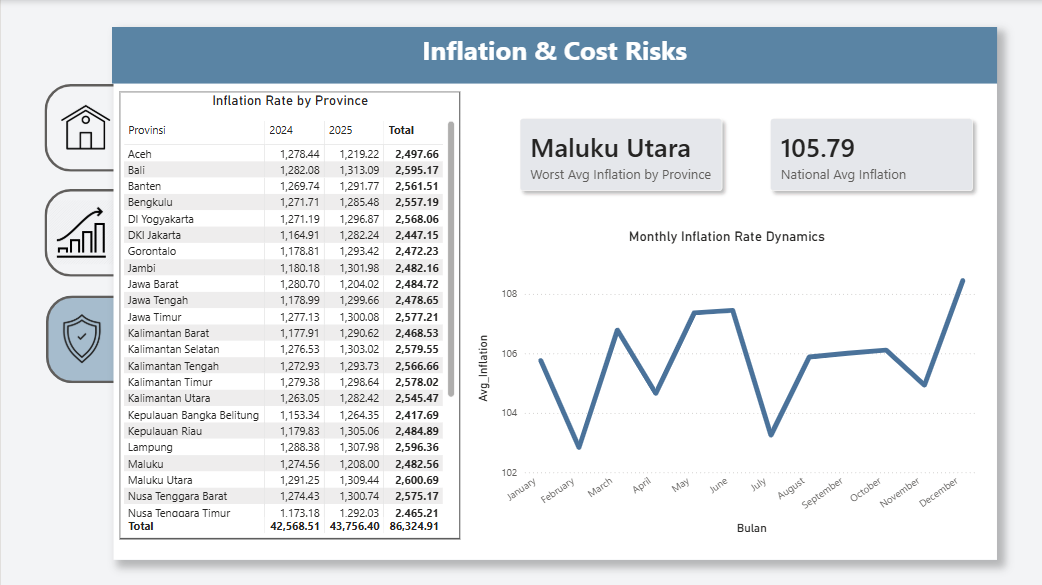

Layout of this report page (visuals, bound fields, positions):
{"tool":"powerbi","page":{"name":"Risk Assesment","canvas":[1280,720],"ordinal":2},"visuals":[{"type":"actionButton","box":[52.5,102.5,132.5,107.5],"z":0},{"type":"actionButton","box":[55,362.5,132.5,107.5],"z":1000},{"type":"actionButton","box":[52.5,232.5,132.5,107.5],"z":2000},{"type":"shape","box":[137.5,32.5,1082.5,652.5],"z":3000},{"type":"image","box":[62.5,115,82.5,80],"z":4000},{"type":"image","box":[57.5,245,82.5,80],"z":5000},{"type":"image","box":[40,375,117.5,80],"z":6000},{"type":"textbox","box":[136.5,32.3,1084.8,69.5],"z":7000},{"type":"cardVisual","fields":{"Data":["Dim_Provinsi.Avg_Inflation"]},"box":[913.6,115.8,307,147.1],"z":8000},{"type":"cardVisual","fields":{"Data":["Min(Fact_Inflasi.Provinsi)"]},"box":[606.6,115.8,307,147.1],"z":9000},{"type":"lineChart","title":"Monthly Inflation Rate Dynamics","fields":{"Category":["Fact_Inflasi.Bulan"],"Y":["Dim_Provinsi.Avg_Inflation"]},"box":[577.2,279.4,625,380.5],"z":10000},{"type":"pivotTable","title":"Inflation Rate by Province","fields":{"Columns":["Fact_Inflasi.Tahun"],"Rows":["Dim_Provinsi.Provinsi"],"Values":["Sum(Fact_Inflasi.Tingkat_Inflasi)"]},"box":[145.2,112.1,417.3,547.8],"z":11000}]}

Visuals, with their boxes in screenshot pixels (x1, y1, x2, y2), scaled from the page's 1280x720 canvas onto the 1042x585 screenshot:
actionButton: <bbox>43, 83, 151, 171</bbox>
actionButton: <bbox>45, 295, 153, 382</bbox>
actionButton: <bbox>43, 189, 151, 276</bbox>
shape: <bbox>112, 26, 993, 557</bbox>
image: <bbox>51, 93, 118, 158</bbox>
image: <bbox>47, 199, 114, 264</bbox>
image: <bbox>33, 305, 128, 370</bbox>
textbox: <bbox>111, 26, 994, 83</bbox>
cardVisual - Dim_Provinsi.Avg_Inflation: <bbox>744, 94, 994, 214</bbox>
cardVisual - Min(Fact_Inflasi.Provinsi): <bbox>494, 94, 744, 214</bbox>
"Monthly Inflation Rate Dynamics" lineChart: <bbox>470, 227, 979, 536</bbox>
"Inflation Rate by Province" pivotTable: <bbox>118, 91, 458, 536</bbox>
